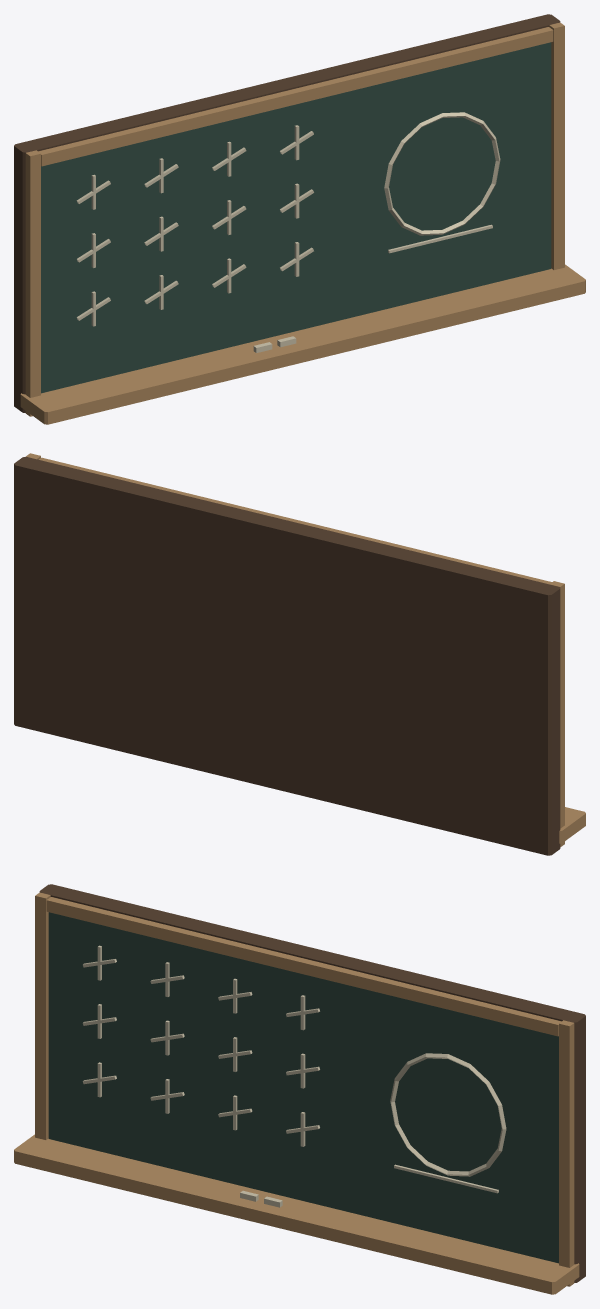
Rendered from board_classroom.glb.
3 views of the same model, one above another, from view 1: azimuth 30°, elevation 25°; view 2: azimuth 150°, elevation 25°; view 3: azimuth 330°, elevation 25° (orthographic).
Visible parts, largest first — view 1: geometry; view 2: geometry; view 3: geometry.
Boxes of the visible parts, x1=… form: geometry: x1=14, y1=14, x2=585, y2=424; geometry: x1=14, y1=453, x2=585, y2=855; geometry: x1=14, y1=884, x2=585, y2=1294.
Bounding box in the file's own units: 2.72 × 1.25 × 0.305.
